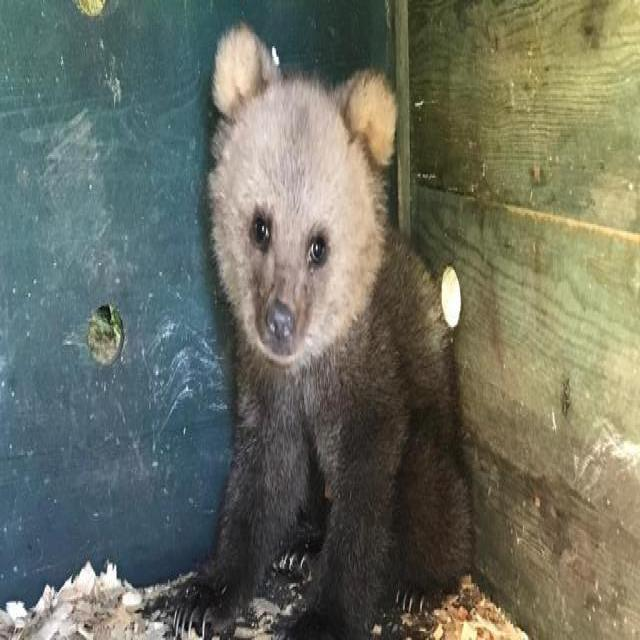Bear: (141, 23, 479, 640)
